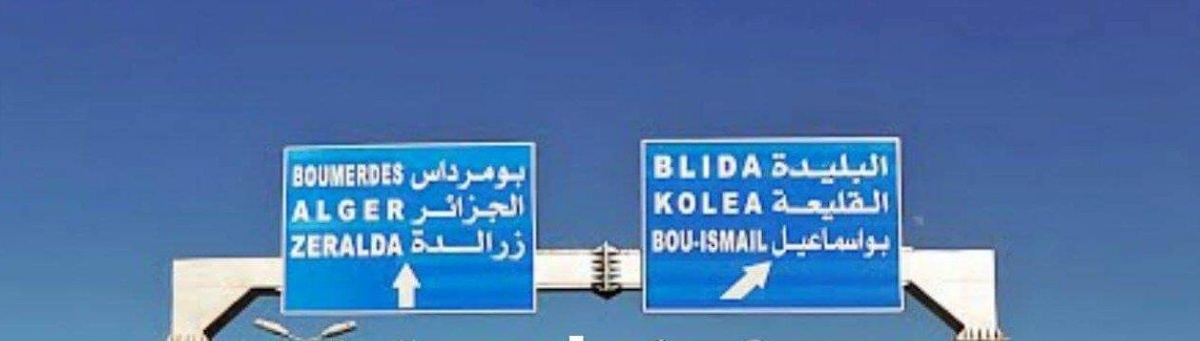text: (785, 225, 800, 261), (801, 225, 816, 261), (817, 225, 832, 261), (833, 225, 848, 261), (849, 225, 864, 261), (865, 225, 880, 261), (785, 152, 800, 188), (801, 152, 816, 188), (817, 152, 832, 188), (833, 152, 848, 188), (849, 152, 864, 188), (865, 152, 880, 188), (417, 157, 432, 192), (433, 157, 448, 192), (449, 157, 464, 192), (465, 157, 480, 192), (481, 157, 496, 192), (497, 157, 512, 192), (417, 193, 432, 228), (433, 193, 448, 228), (449, 193, 464, 228), (465, 193, 480, 228), (481, 193, 496, 228), (497, 193, 512, 228), (417, 228, 432, 262), (433, 228, 448, 262), (449, 228, 464, 262), (465, 228, 480, 262), (481, 228, 496, 262), (497, 228, 512, 262), (785, 188, 800, 222), (801, 188, 816, 222), (817, 188, 832, 222), (833, 188, 848, 222), (849, 188, 864, 222), (865, 188, 880, 222), (771, 225, 784, 261), (771, 152, 784, 188), (513, 157, 526, 192), (305, 161, 320, 191), (321, 161, 336, 191), (337, 161, 352, 191), (353, 161, 368, 191), (369, 161, 384, 191), (385, 161, 400, 191), (513, 228, 526, 262), (657, 152, 672, 181), (673, 152, 688, 181), (689, 152, 704, 181), (705, 152, 720, 181), (721, 152, 736, 181), (737, 152, 752, 181), (513, 193, 525, 228), (657, 228, 672, 256), (673, 228, 688, 256), (689, 228, 704, 256), (705, 228, 720, 256), (721, 228, 736, 256), (737, 228, 752, 256), (753, 228, 768, 256), (772, 188, 784, 222), (305, 199, 320, 226), (321, 199, 336, 226), (337, 199, 352, 226), (353, 199, 368, 226), (369, 199, 384, 226), (385, 199, 400, 226), (881, 225, 892, 261), (305, 235, 320, 261), (321, 235, 336, 261), (337, 235, 352, 261), (353, 235, 368, 261), (369, 235, 384, 261), (385, 235, 400, 261), (290, 235, 304, 261), (657, 192, 672, 216), (673, 192, 688, 216), (689, 192, 704, 216), (705, 192, 720, 216), (721, 192, 736, 216), (737, 192, 752, 216), (292, 161, 304, 191), (291, 199, 304, 226), (753, 152, 764, 181), (753, 192, 766, 216), (881, 188, 890, 222), (881, 152, 888, 188), (410, 157, 416, 192), (410, 228, 416, 262), (401, 199, 408, 226), (401, 161, 407, 191), (652, 228, 656, 256), (401, 235, 405, 261), (414, 193, 416, 228), (654, 152, 656, 181), (654, 192, 656, 216), (769, 228, 770, 256)
